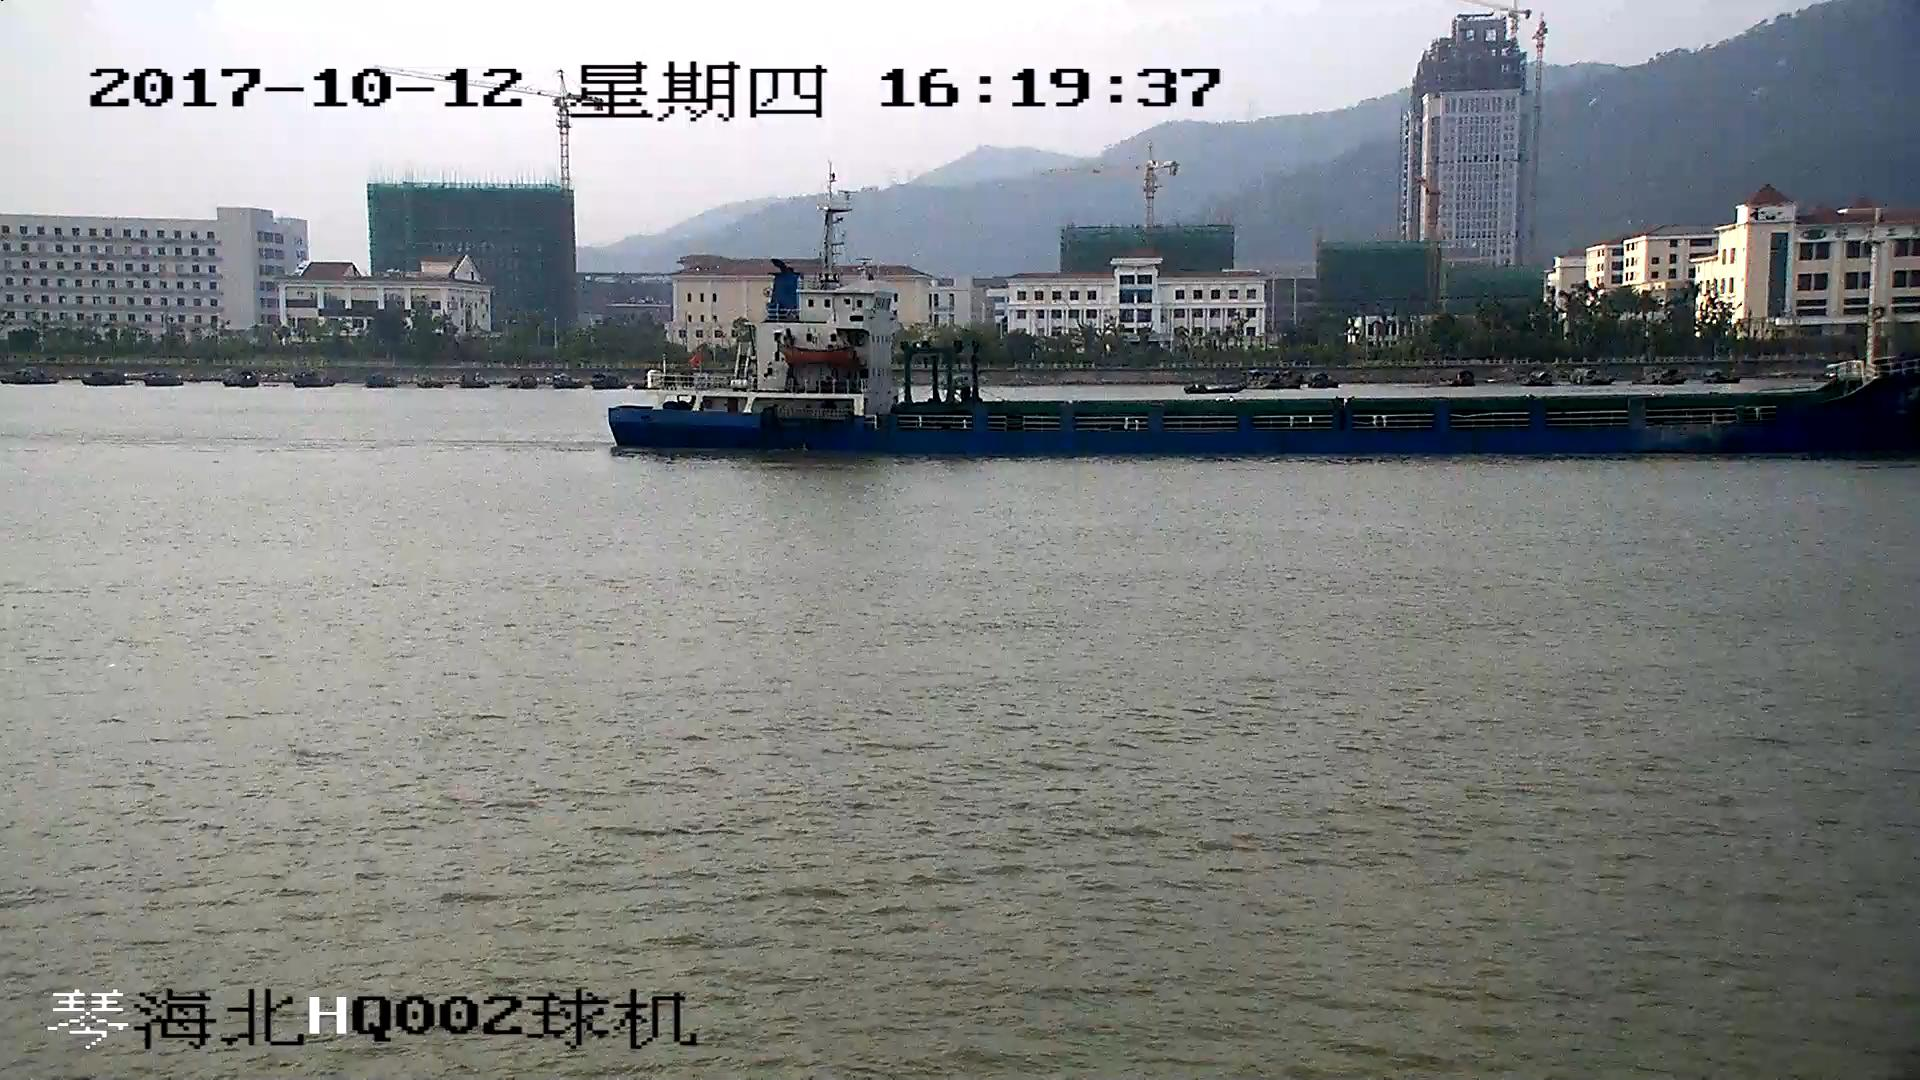general cargo ship: (606, 179, 1920, 467)
